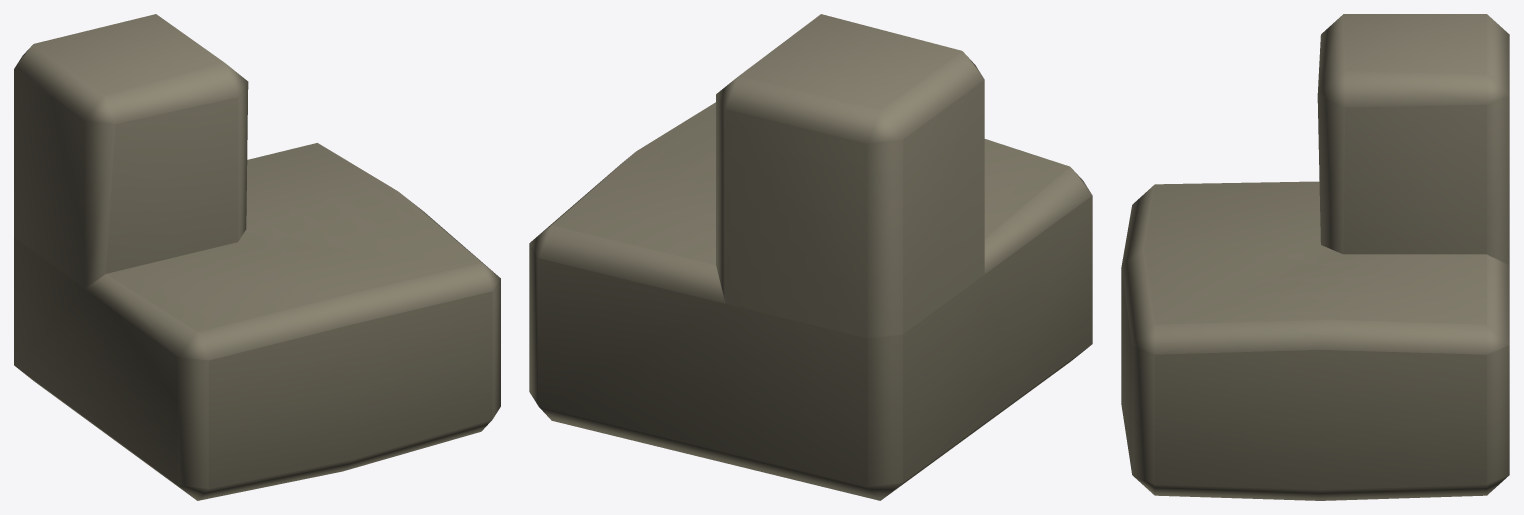
The model's file is orc_stair_corner_conv_shade_4.fbx.
The picture shows the model from 3 angles, left to right: view 1: azimuth 30°, elevation 25°; view 2: azimuth 150°, elevation 25°; view 3: azimuth 270°, elevation 25°; orthographic projection. The views are drawn at different scales.
Parts seen in each view (by area): view 1: orc_stair_corner_conv_shade_4; view 2: orc_stair_corner_conv_shade_4; view 3: orc_stair_corner_conv_shade_4.
Part boxes in pixels (x1=…): orc_stair_corner_conv_shade_4: x1=14, y1=14, x2=500, y2=500; orc_stair_corner_conv_shade_4: x1=529, y1=14, x2=1092, y2=500; orc_stair_corner_conv_shade_4: x1=1121, y1=14, x2=1509, y2=500.
Bounding box in the file's own units: 50.88 × 50.69 × 51.43.
